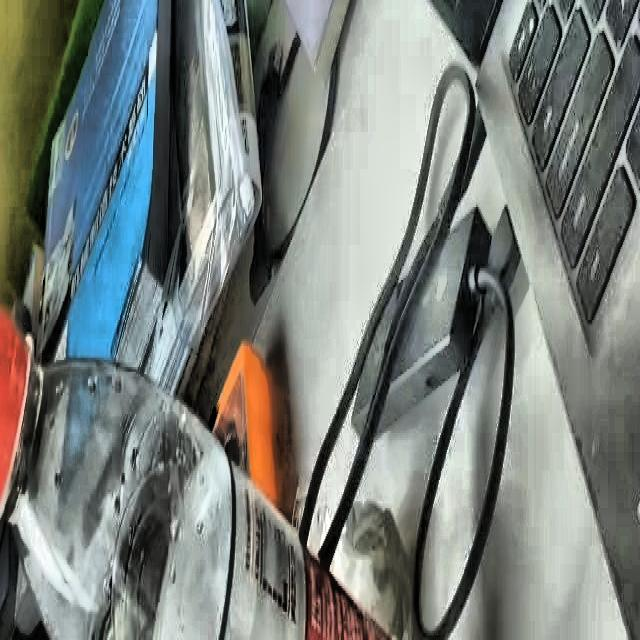plastic: (0, 301, 461, 640)
